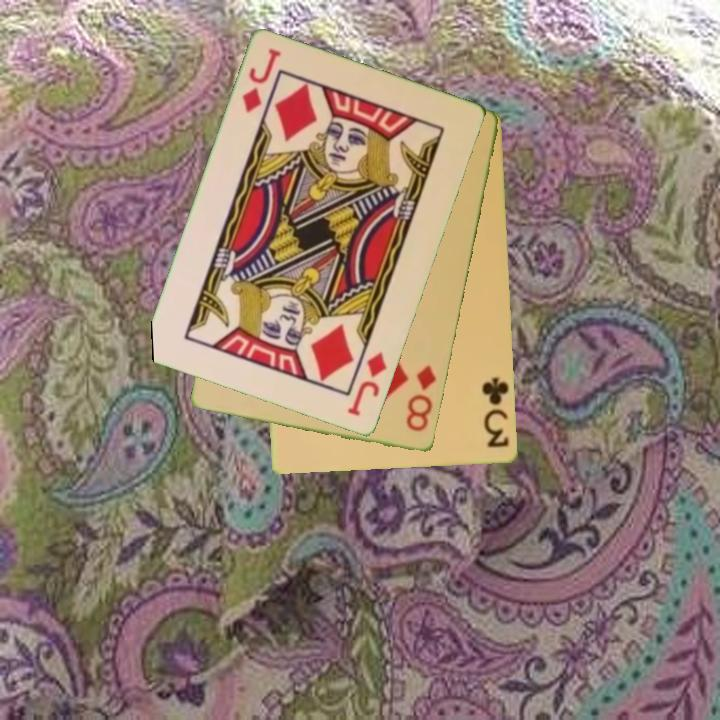3c: (479, 374, 512, 451)
8d: (403, 361, 440, 435)
Jd: (344, 348, 390, 420), (238, 45, 284, 116)
